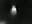person: (11, 5, 19, 18)
